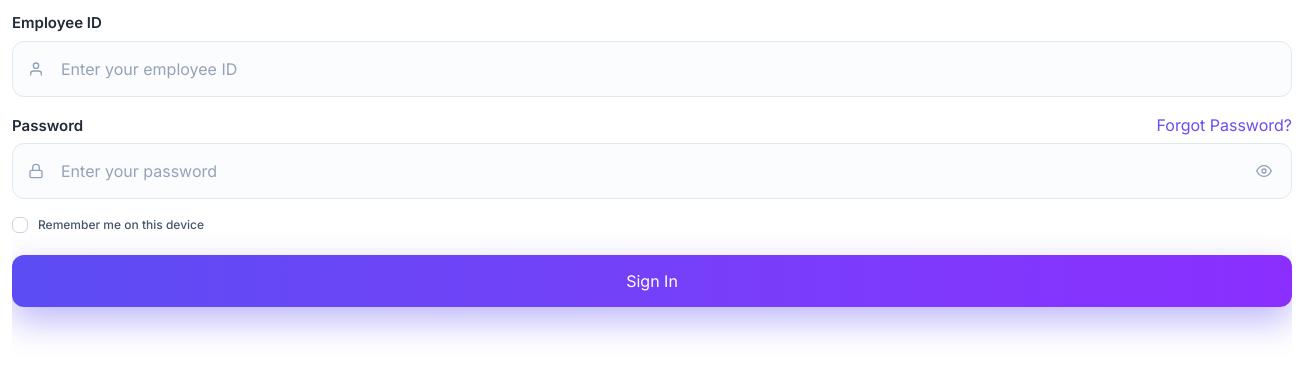
LoginForm › shows validation error when password is empty on submit
In the field labelled "Employee ID": {"x": 652, "y": 68} [12,40,1292,96], type "EMP001"
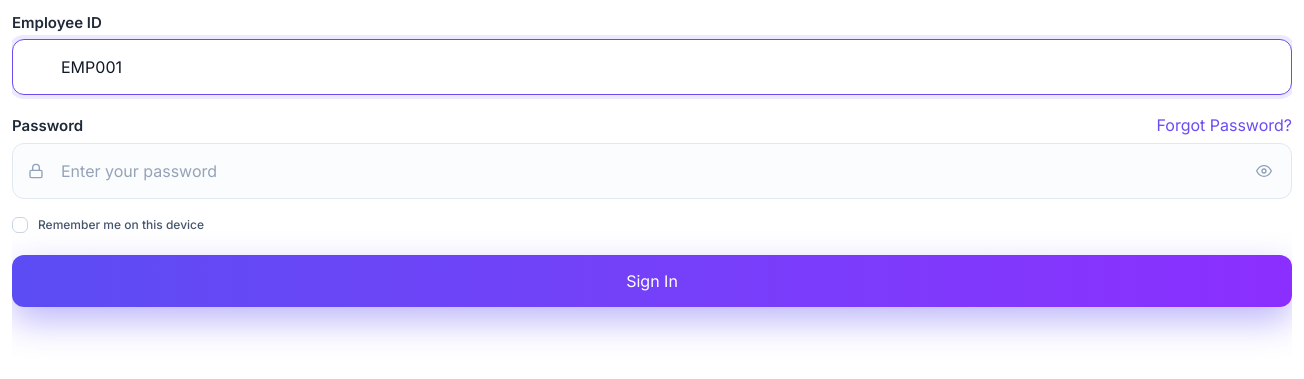
Click the button "Sign In": {"x": 652, "y": 281} [12,255,1292,307]
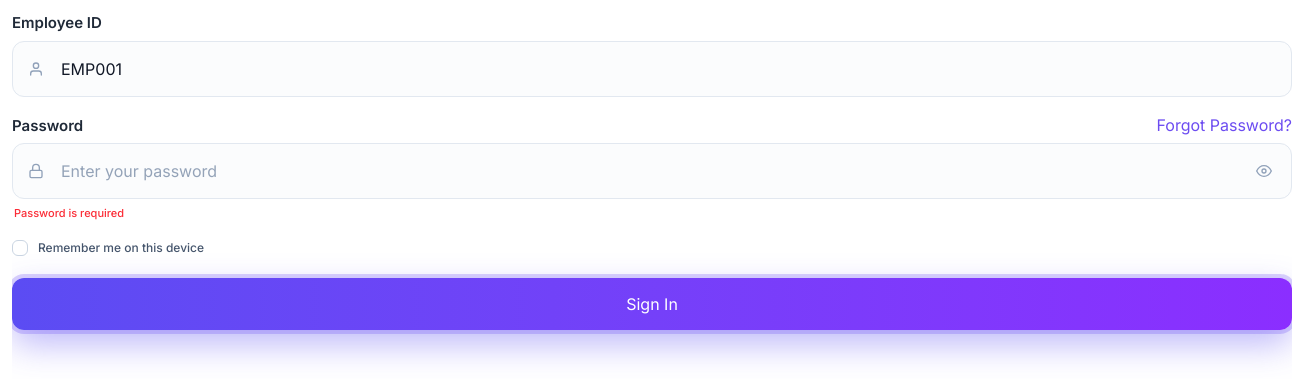
Check: the text "Password is required" is shown, box [14,206,124,220]
